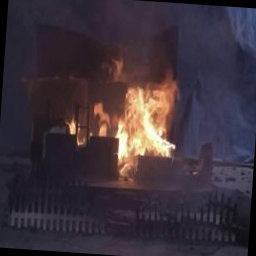fire: (95, 42, 184, 169)
